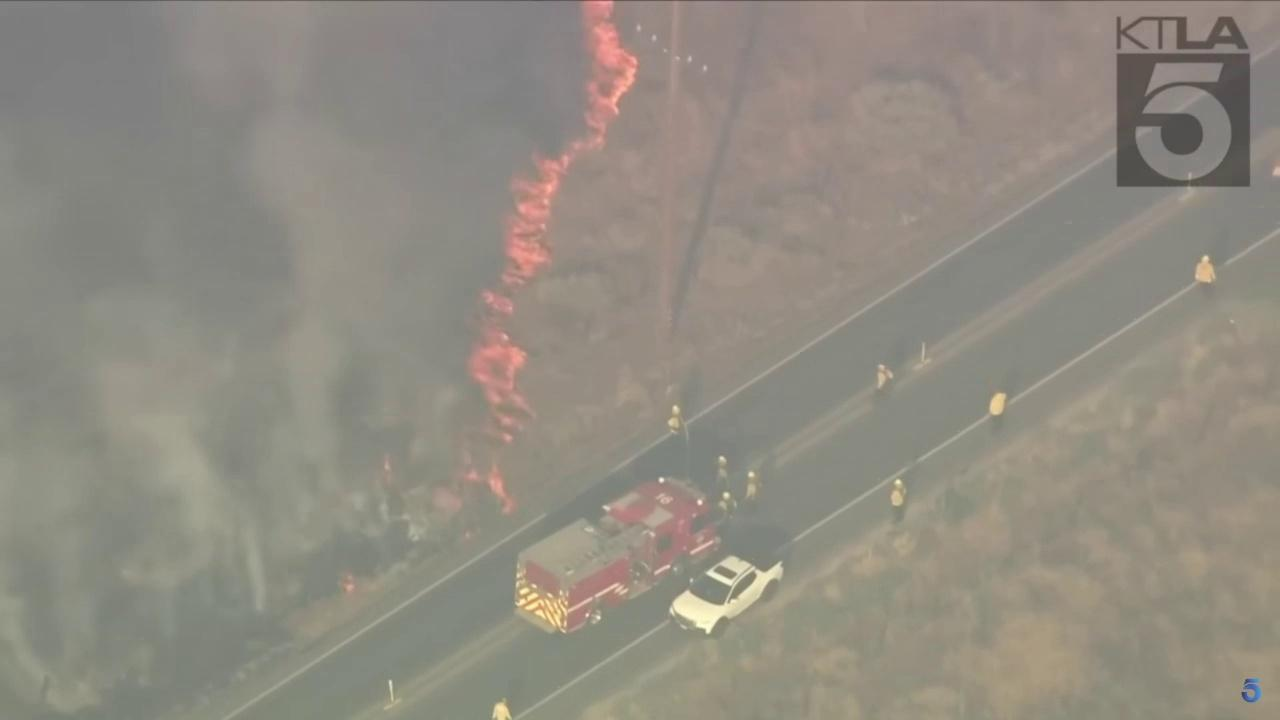fire: (478, 0, 639, 319), (464, 323, 537, 447), (488, 460, 514, 515), (343, 571, 356, 594), (382, 454, 394, 473), (463, 469, 480, 482)
smoke: (0, 0, 585, 720)
